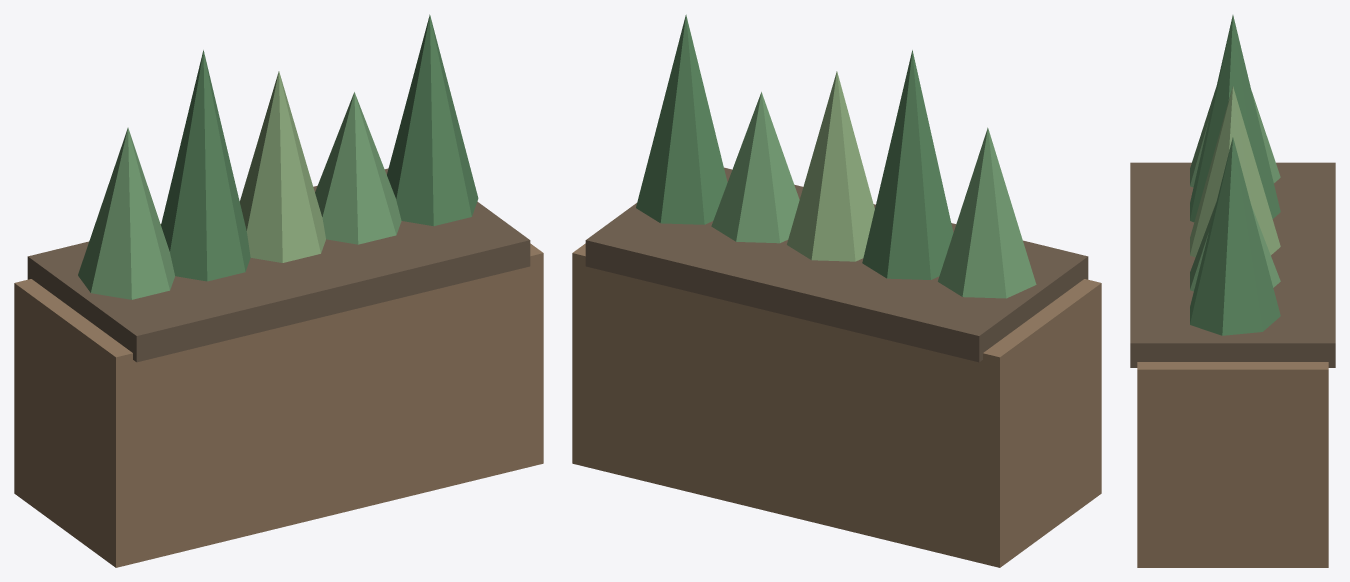
File: pla_horta_parede.glb
3 views of the same model, side by side, from view 1: azimuth 30°, elevation 25°; view 2: azimuth 150°, elevation 25°; view 3: azimuth 270°, elevation 25° (orthographic). The views are drawn at different scales.
Parts seen in each view (by area): view 1: PLA_HORTA_PAREDE_v01; view 2: PLA_HORTA_PAREDE_v01; view 3: PLA_HORTA_PAREDE_v01.
Boxes of the visible parts, x1,y1,x2,y2 form: PLA_HORTA_PAREDE_v01: (14,14,543,567); PLA_HORTA_PAREDE_v01: (572,14,1101,567); PLA_HORTA_PAREDE_v01: (1130,15,1335,567).
Size of the model in its own units: 0.34 by 0.34 by 0.15.
